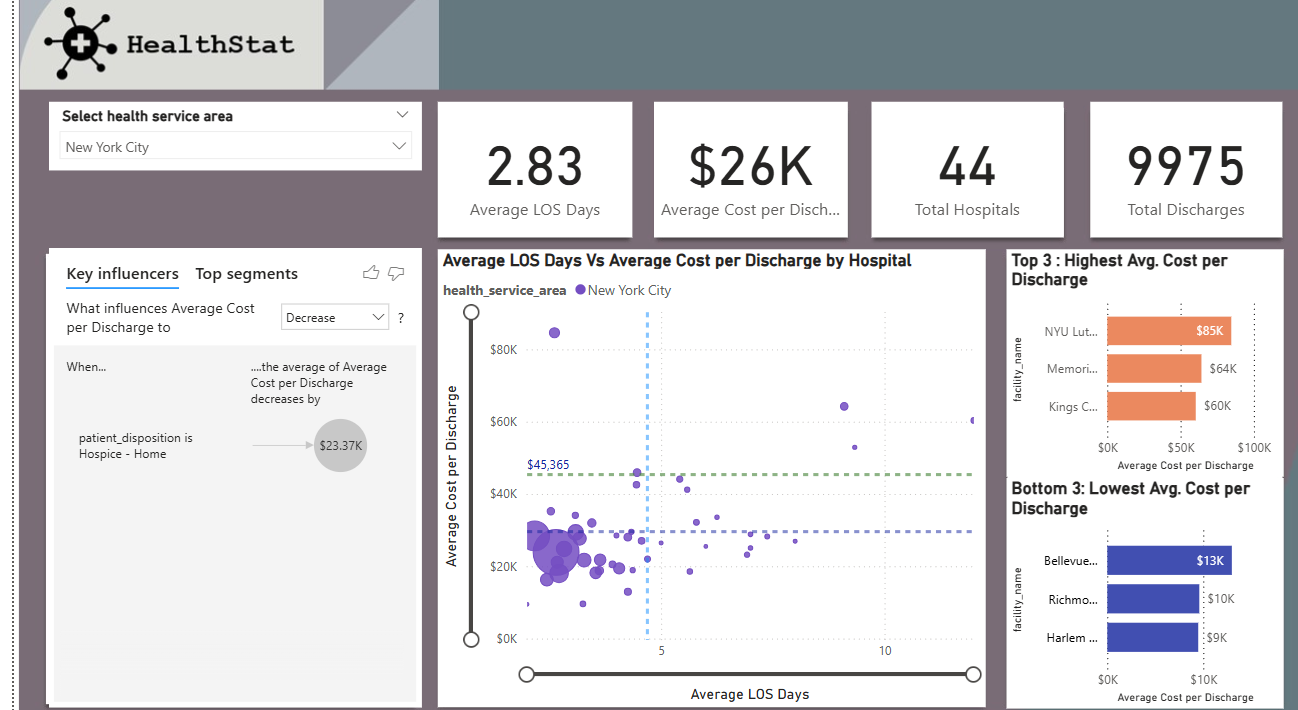

The dashboard page shown, as its layout file describes it:
{"tool":"powerbi","page":{"name":"Cost Comparison","canvas":[1280,720],"ordinal":2},"visuals":[{"type":"image","box":[0,0,1271.2,719.7],"z":0},{"type":"card","fields":{"Values":["_Measure.Average LOS Days"]},"box":[414.4,111.1,190.7,133.1],"z":1000},{"type":"slicer","fields":{"Values":["hospital_discharges.health_service_area"]},"box":[34.3,111.1,365,67.2],"z":2000},{"type":"card","fields":{"Values":["_Measure.Average Cost per Discharge"]},"box":[625.7,111.1,189.4,133.1],"z":3000},{"type":"card","fields":{"Values":["_Measure.Total Hospitals"]},"box":[838.4,111.1,188,133.1],"z":4000},{"type":"card","fields":{"Values":["_Measure.Total Discharges"]},"box":[1052.5,111.1,188,133.1],"z":5000},{"type":"keyDriversVisual","fields":{"Target":["_Measure.Average Cost per Discharge"],"ExplainBy":["hospital_discharges.apr_risk_of_mortality","hospital_discharges.apr_severity_of_illness_description","hospital_discharges.patient_disposition","hospital_discharges.Age bins","hospital_discharges.gender","surgical_program_size_summary.Surgical Program Size","hospital_discharges.health_service_area"]},"box":[34,254.7,364.5,449.4],"z":6000},{"type":"scatterChart","title":"Average LOS Days Vs Average Cost per Discharge by Hospital","fields":{"Category":["hospital_discharges.facility_name"],"X":["_Measure.Average LOS Days"],"Y":["_Measure.Average Cost per Discharge"],"Series":["hospital_discharges.health_service_area"],"Size":["_Measure.Total Discharges"]},"box":[414.7,255.4,536.1,447.8],"z":7000},{"type":"clusteredBarChart","title":"Top 3 : Highest Avg. Cost per Discharge ","fields":{"Y":["_Measure.Average Cost per Discharge"],"Category":["hospital_discharges.facility_name"]},"box":[970.7,255.7,271.8,214.7],"z":8000},{"type":"clusteredBarChart","title":"Bottom 3: Lowest Avg. Cost per Discharge","fields":{"Y":["_Measure.Average Cost per Discharge"],"Category":["hospital_discharges.facility_name"]},"box":[970.7,492.8,271.8,212.3],"z":9000},{"type":"pageNavigator","box":[415.8,32.3,825.5,49.7],"z":9001}]}

Visuals, with their boxes in screenshot pixels (x1, y1, x2, y2), scaled from the page's 1280x720 canvas onto the 1298x710 screenshot:
image: x1=0, y1=0, x2=1289, y2=709
card - _Measure.Average LOS Days: x1=420, y1=110, x2=614, y2=241
slicer - hospital_discharges.health_service_area: x1=35, y1=110, x2=405, y2=176
card - _Measure.Average Cost per Discharge: x1=634, y1=110, x2=827, y2=241
card - _Measure.Total Hospitals: x1=850, y1=110, x2=1041, y2=241
card - _Measure.Total Discharges: x1=1067, y1=110, x2=1258, y2=241
keyDriversVisual - _Measure.Average Cost per Discharge x hospital_discharges.apr_risk_of_mortality: x1=34, y1=251, x2=404, y2=694
"Average LOS Days Vs Average Cost per Discharge by Hospital" scatterChart: x1=421, y1=252, x2=964, y2=693
"Top 3 : Highest Avg. Cost per Discharge " clusteredBarChart: x1=984, y1=252, x2=1260, y2=464
"Bottom 3: Lowest Avg. Cost per Discharge" clusteredBarChart: x1=984, y1=486, x2=1260, y2=695
pageNavigator: x1=422, y1=32, x2=1259, y2=81
